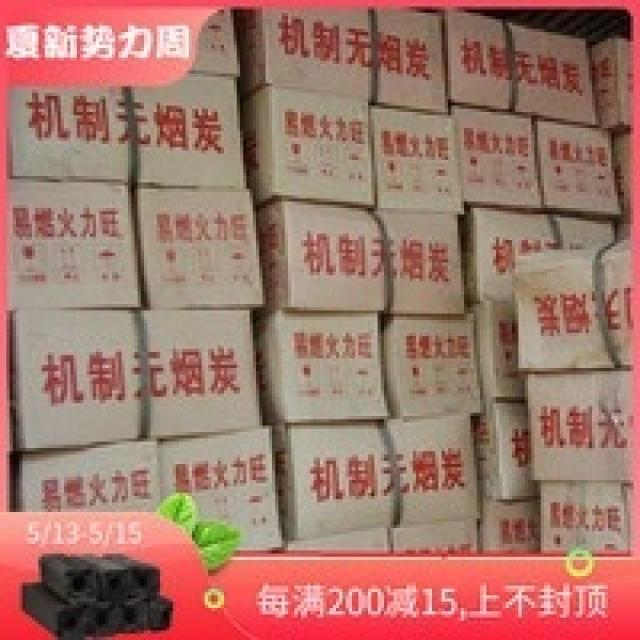box: (10, 307, 262, 451), (10, 179, 266, 310), (243, 86, 467, 218), (10, 74, 246, 189), (272, 419, 480, 538), (253, 202, 467, 317), (237, 10, 448, 112), (454, 106, 621, 221), (445, 6, 602, 128), (512, 240, 630, 371), (253, 310, 390, 422), (461, 205, 614, 304), (160, 429, 285, 550), (528, 368, 630, 483), (381, 314, 486, 419), (13, 442, 163, 512), (474, 397, 541, 502), (538, 483, 627, 557), (467, 301, 525, 400), (288, 522, 477, 550), (589, 38, 630, 138), (192, 6, 240, 77), (477, 499, 538, 550), (614, 134, 630, 240)
